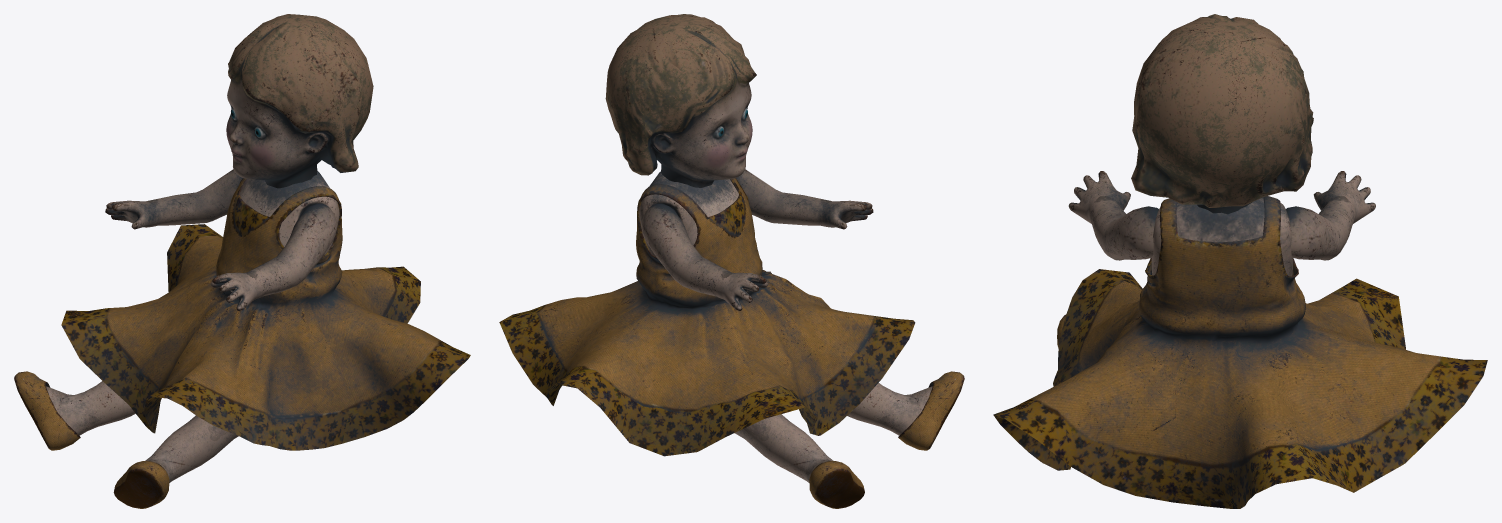
The model's file is SM_Doll_4.fbx.
3 views of the same model, side by side, from view 1: azimuth 30°, elevation 25°; view 2: azimuth 150°, elevation 25°; view 3: azimuth 270°, elevation 25° (orthographic). The views are drawn at different scales.
Parts seen in each view (by area): view 1: SM_Doll_4; view 2: SM_Doll_4; view 3: SM_Doll_4.
Boxes of the visible parts, x1=… form: SM_Doll_4: x1=14, y1=14, x2=470, y2=508; SM_Doll_4: x1=499, y1=14, x2=964, y2=508; SM_Doll_4: x1=993, y1=14, x2=1487, y2=508.
Bounding box in the file's own units: 21.82 × 21.11 × 22.9.
1 material, 1 textured.
